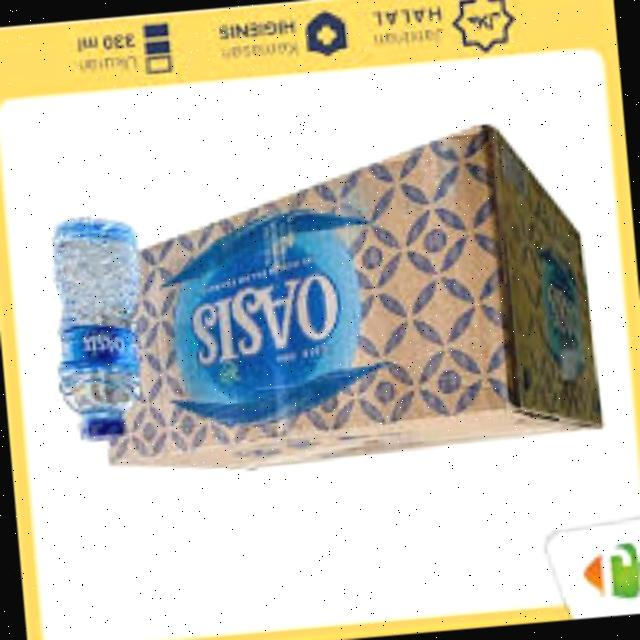bottle: (30, 190, 150, 452)
cap: (74, 411, 133, 448)
label: (51, 313, 146, 378)
